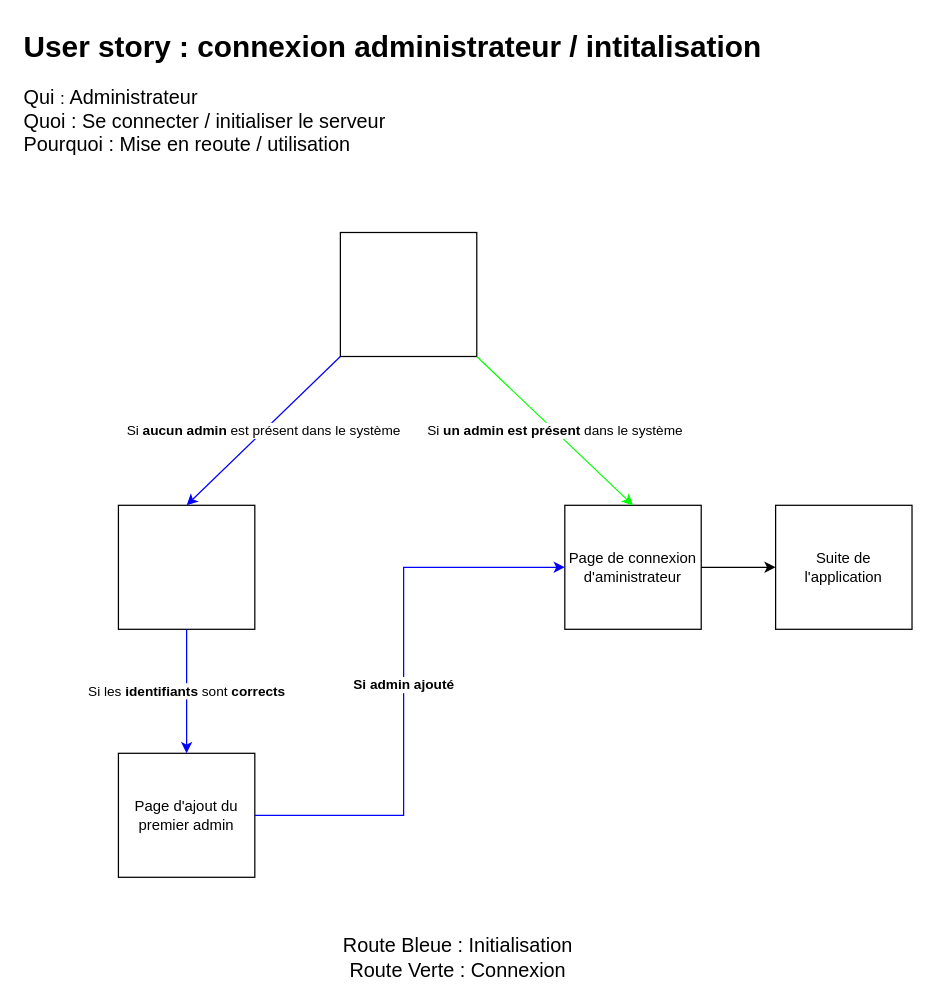
Image size: 934x1002. Some labels were removed from this diagram. The shapes that lost their labels are listed below. From the top down, each one's centre as x and y in pixels, then its label:
the point at 408,293: Recherche de serveur
the point at 186,566: Page de connexion avec les identifiants par défault
